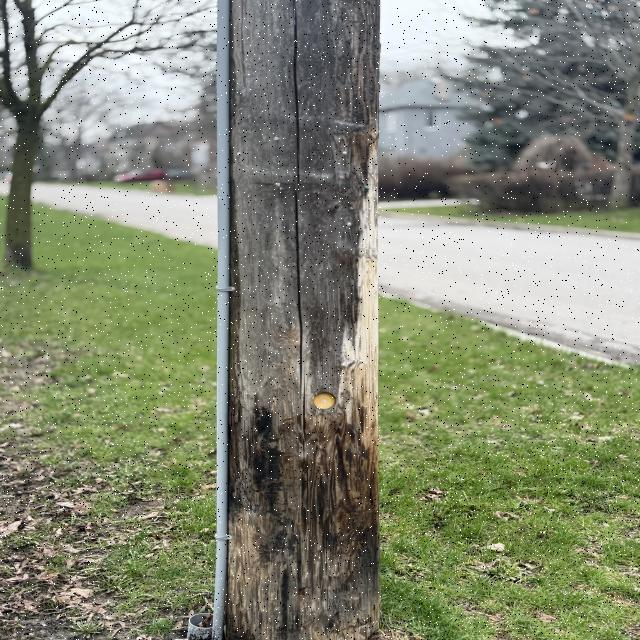Electrical Pole: (211, 0, 391, 640)
